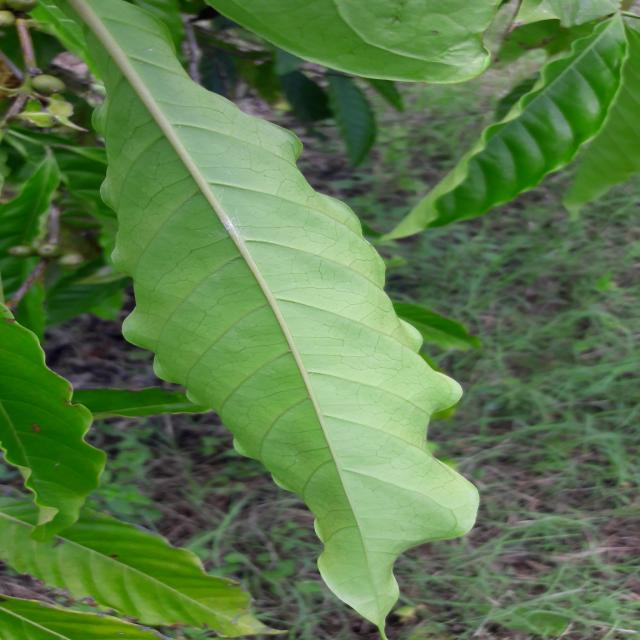Sanas: (39, 0, 481, 640)
